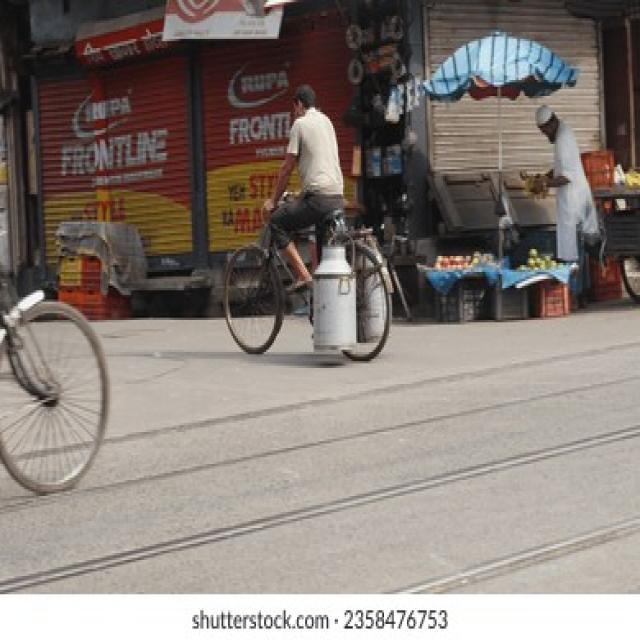bicycle: (226, 85, 390, 360)
